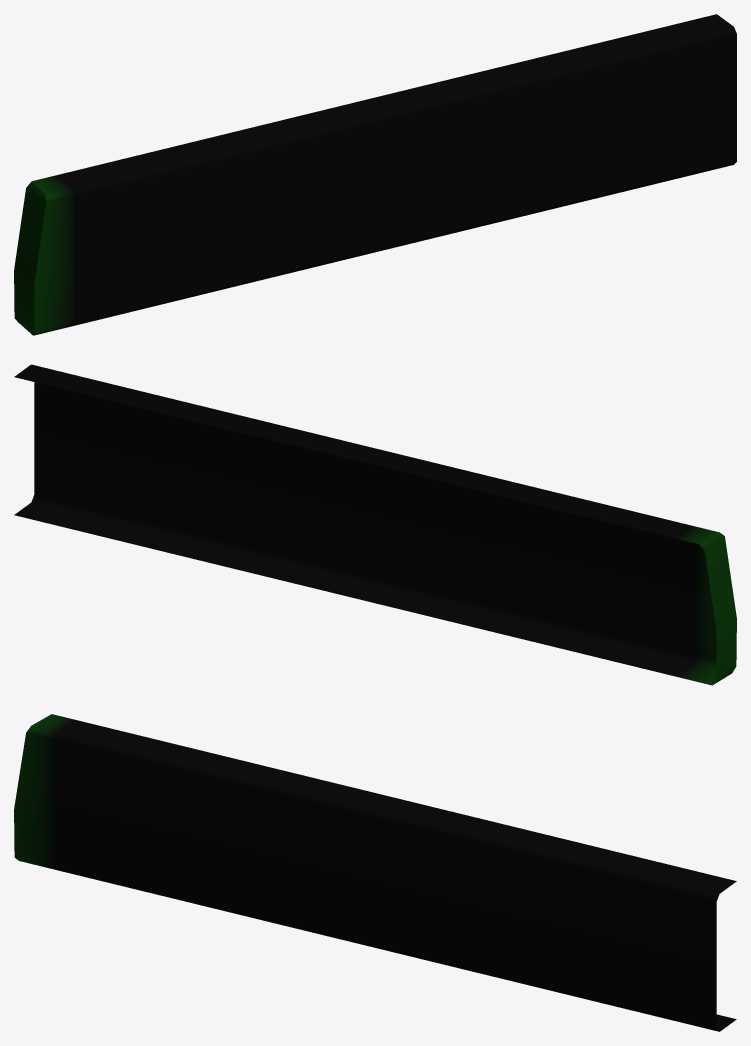
Rendered from DBK_Trim_Brick_End_Mirror.fbx.
3 views of the same model, one above another, from view 1: azimuth 30°, elevation 25°; view 2: azimuth 150°, elevation 25°; view 3: azimuth 330°, elevation 25° (orthographic).
Parts seen in each view (by area): view 1: DBK_Trim_Brick_End_Mirror; view 2: DBK_Trim_Brick_End_Mirror; view 3: DBK_Trim_Brick_End_Mirror.
Boxes of the visible parts, left/top/right/bottom form: DBK_Trim_Brick_End_Mirror: left=14, top=14, right=736, bottom=335; DBK_Trim_Brick_End_Mirror: left=14, top=364, right=736, bottom=685; DBK_Trim_Brick_End_Mirror: left=14, top=714, right=736, bottom=1031.
Bounding box in the file's own units: 139 × 26.11 × 6.92.
